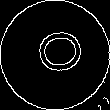O_W: (27, 30, 83, 80)
